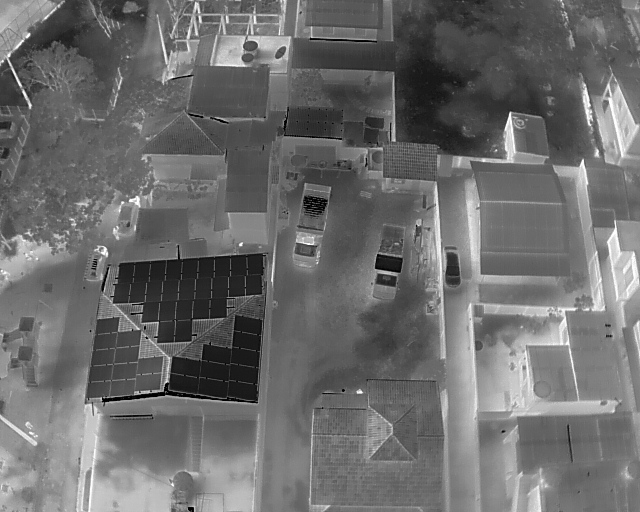car: (114, 190, 140, 236), (441, 242, 464, 291), (83, 238, 106, 287), (1, 142, 22, 166), (0, 115, 21, 139), (174, 57, 197, 77)
person: (110, 224, 123, 242), (21, 248, 35, 260), (22, 420, 35, 432), (27, 247, 40, 259), (0, 267, 13, 279), (353, 384, 366, 396), (24, 429, 37, 440), (18, 232, 31, 243)
truck: (295, 179, 329, 269), (372, 219, 406, 303)
